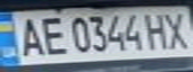0: (66, 12, 90, 54)
3: (87, 12, 109, 53)
4: (124, 11, 145, 52), (106, 11, 127, 52)
A: (9, 15, 48, 58)
E: (33, 12, 69, 56)
H: (142, 10, 172, 51)
X: (160, 9, 193, 51)
